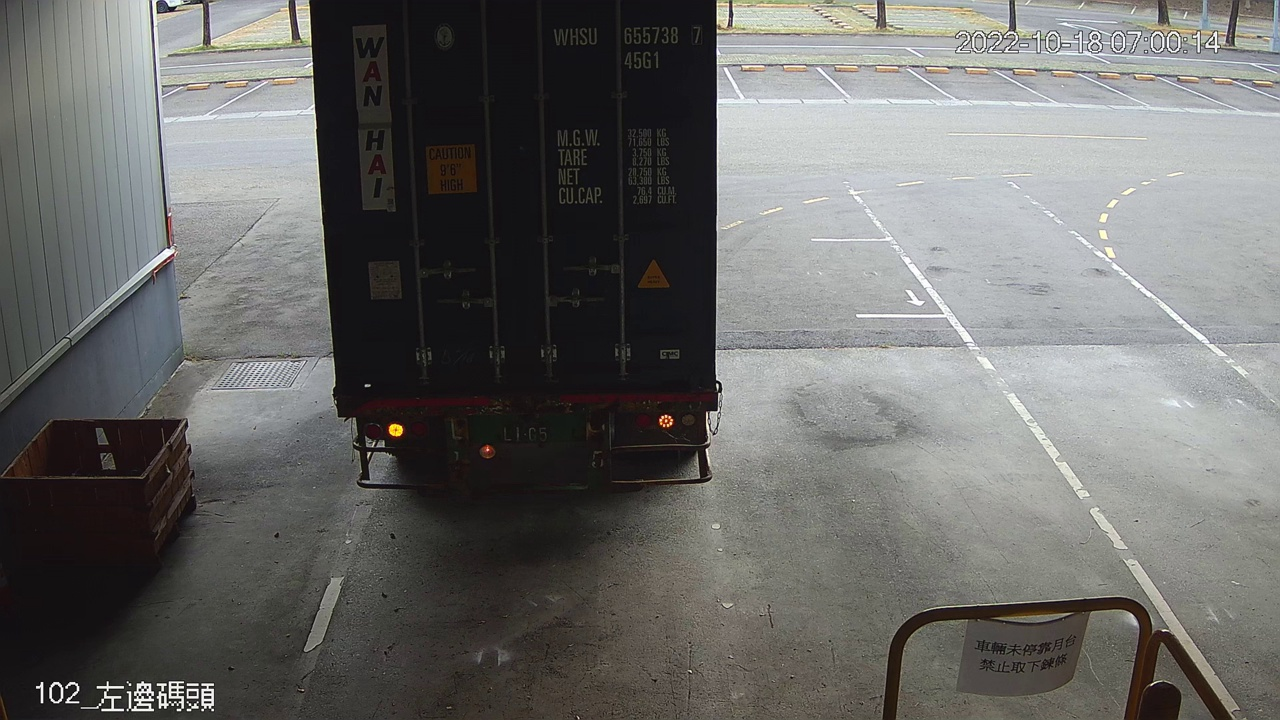container: (546, 19, 709, 77)
